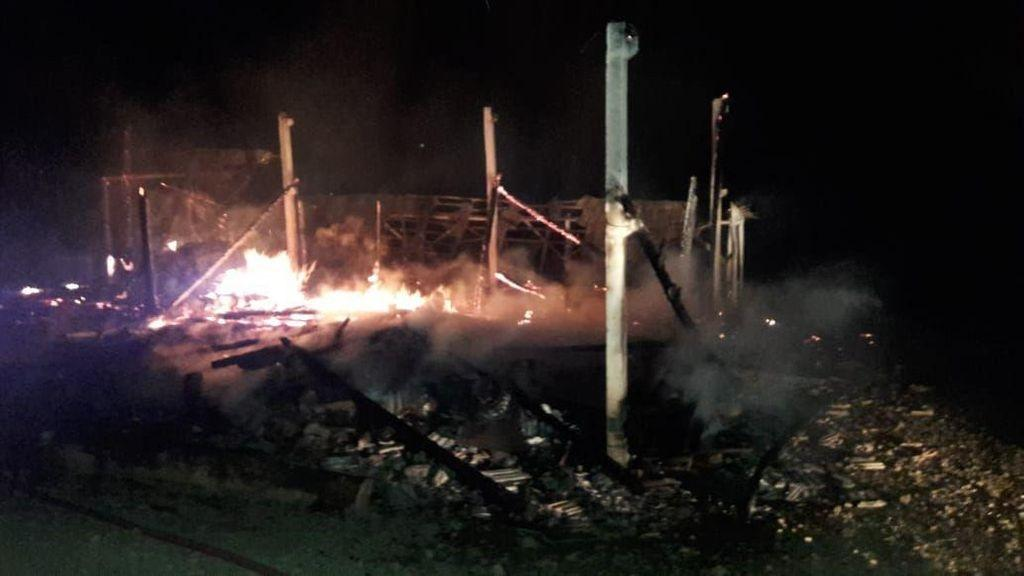fire: (207, 243, 455, 325), (145, 309, 181, 330)
